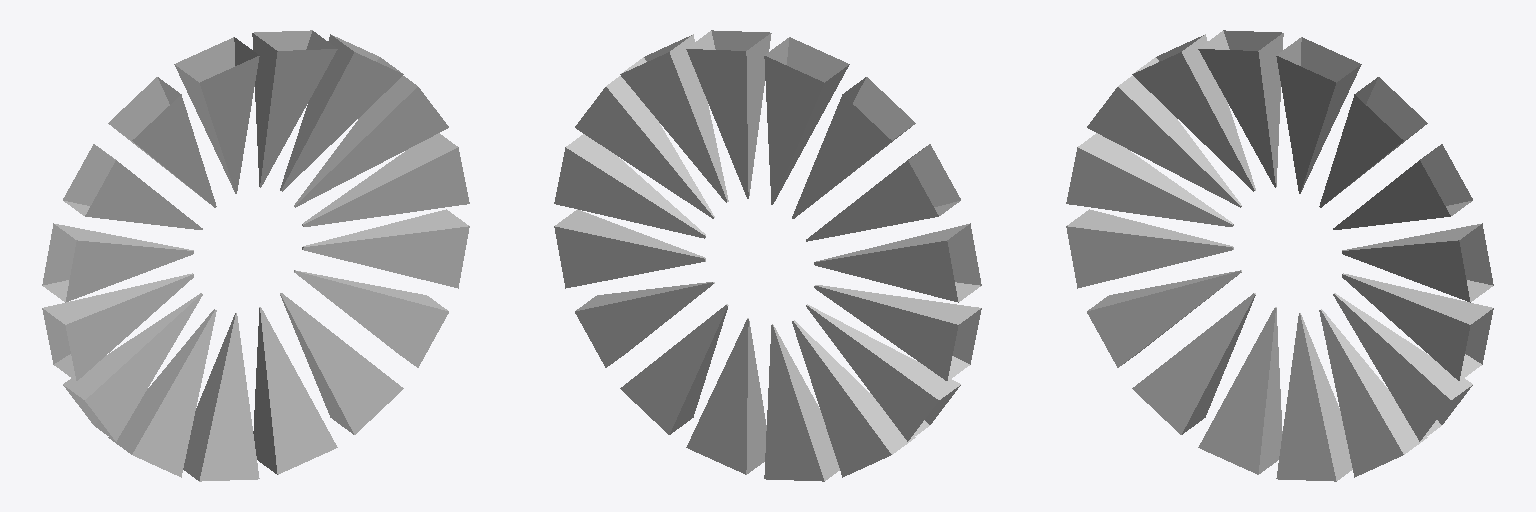
Rendered from gnawer_teeth.obj.
3 views of the same model, side by side, from view 1: azimuth 30°, elevation 25°; view 2: azimuth 150°, elevation 25°; view 3: azimuth 330°, elevation 25° (orthographic).
Parts seen in each view (by area): view 1: gnawer_teeth.001_Cylinder.002; view 2: gnawer_teeth.001_Cylinder.002; view 3: gnawer_teeth.001_Cylinder.002.
Boxes of the visible parts, <box> form: gnawer_teeth.001_Cylinder.002: <box>42,30,469,481</box>; gnawer_teeth.001_Cylinder.002: <box>554,30,981,481</box>; gnawer_teeth.001_Cylinder.002: <box>1066,30,1493,481</box>.
Size of the model in its own units: 2.64 by 2.64 by 0.2856.